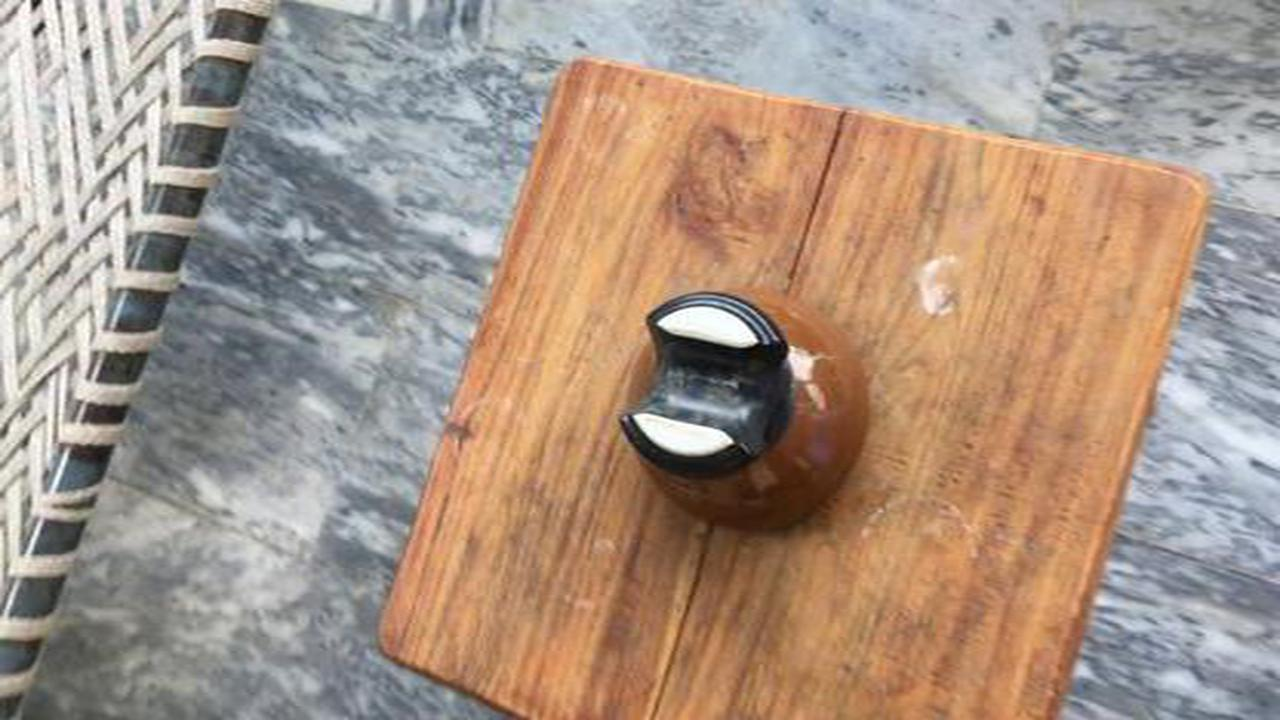insulator_pin: (597, 283, 908, 549)
